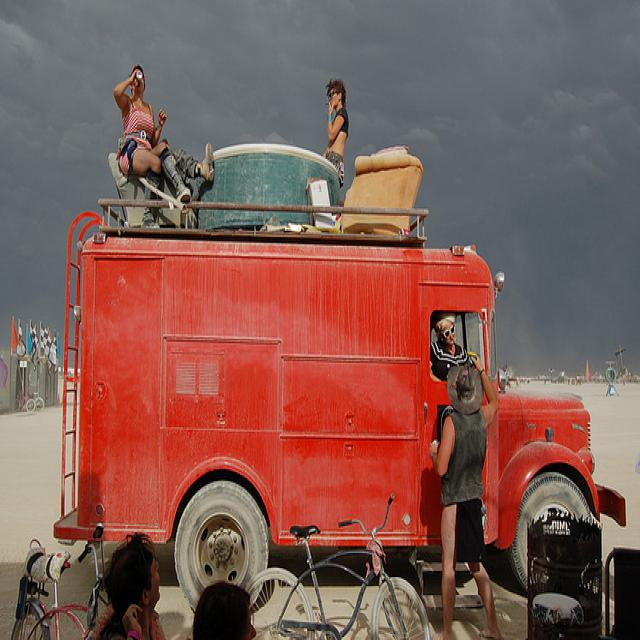Vehicle: (54, 145, 627, 613)
